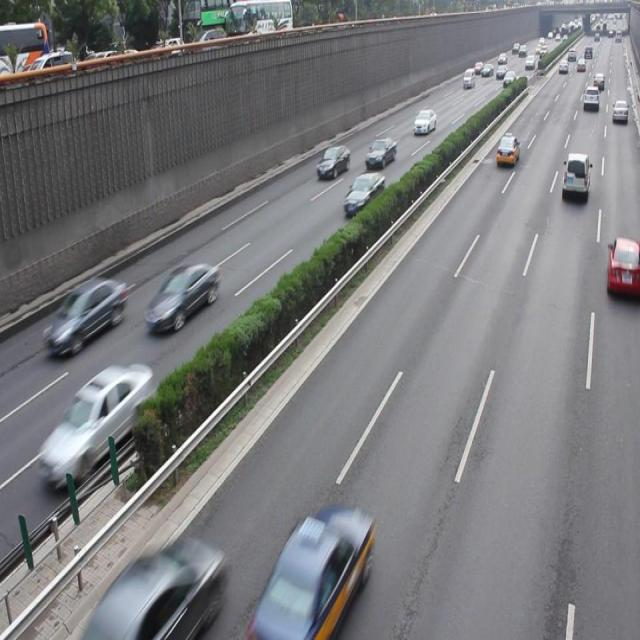car: (256, 506, 372, 640), (37, 360, 153, 486), (44, 275, 126, 357), (144, 262, 218, 332), (606, 237, 640, 300), (343, 172, 385, 216), (560, 151, 589, 201), (316, 144, 350, 180), (363, 136, 396, 168)
